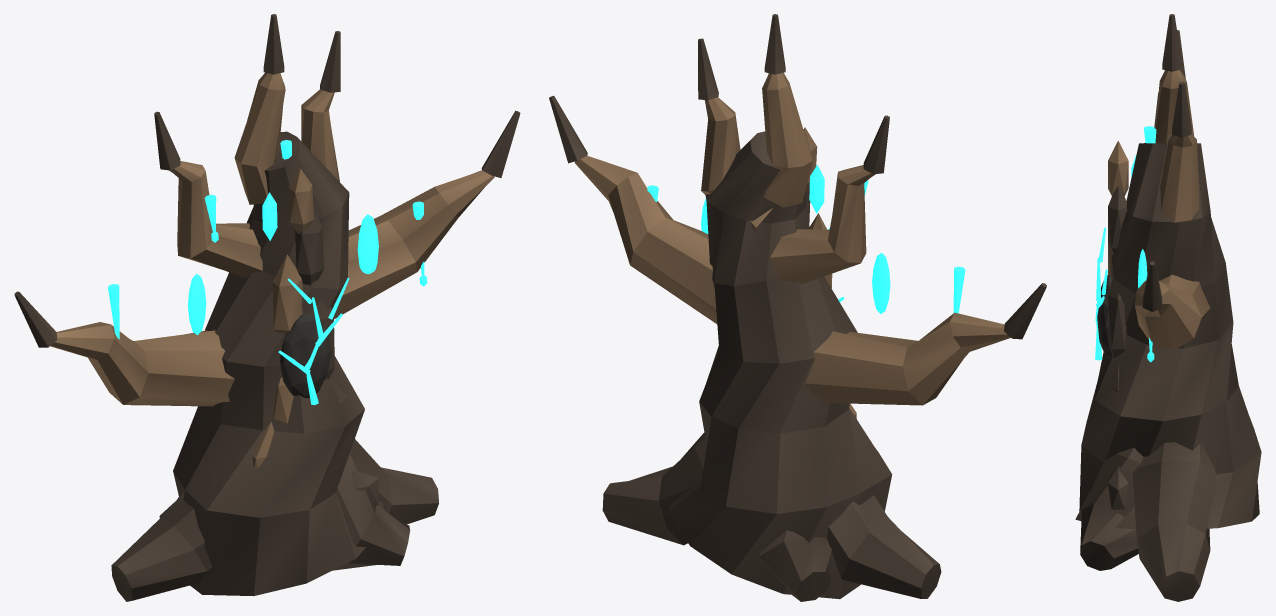
File: ashroot-tree.glb
3 renders of one model, left to right at view 1: azimuth 30°, elevation 25°; view 2: azimuth 150°, elevation 25°; view 3: azimuth 270°, elevation 25°, orthographic. The views are drawn at different scales.
Parts seen in each view (by area): view 1: Ashroot | twisted trunk, Ashroot | twisted branch 1, Ashroot | twisted branch 2, Ashroot | exposed root 1, Ashroot | twisted branch 3, Ashroot | twisted branch 5, Ashroot | exposed root 4, Ashroot | exposed root 2, Ashroot | hollow heart, Ashroot | twisted branch 4, Ashroot | bark scar 5, Ashroot | bark scar 6 (+8 smaller); view 2: Ashroot | twisted trunk, Ashroot | twisted branch 1, Ashroot | twisted branch 2, Ashroot | exposed root 1, Ashroot | twisted branch 3, Ashroot | exposed root 2, Ashroot | twisted branch 5, Ashroot | exposed root 3, Ashroot | twisted branch 4, Ashroot | branch tip 2, Ashroot | branch tip 1, Ashroot | luminous sap.003 (+3 smaller); view 3: Ashroot | twisted trunk, Ashroot | exposed root 2, Ashroot | exposed root 4, Ashroot | twisted branch 2, Ashroot | twisted branch 4, Ashroot | twisted branch 5, Ashroot | bark scar 4, Ashroot | bark scar 6, Ashroot | bark scar 7, Ashroot | branch tip 5, Ashroot | branch tip 4, Ashroot | hollow heart (+3 smaller).
Boxes of the visible parts, bbox=[...] form: Ashroot | twisted trunk: bbox=[173, 131, 383, 596]; Ashroot | twisted branch 1: bbox=[50, 322, 234, 406]; Ashroot | twisted branch 2: bbox=[334, 170, 494, 319]; Ashroot | exposed root 1: bbox=[111, 492, 212, 601]; Ashroot | twisted branch 3: bbox=[169, 161, 262, 277]; Ashroot | twisted branch 5: bbox=[234, 72, 285, 204]; Ashroot | exposed root 4: bbox=[333, 454, 410, 570]; Ashroot | exposed root 2: bbox=[349, 439, 438, 524]; Ashroot | hollow heart: bbox=[280, 313, 331, 398]; Ashroot | twisted branch 4: bbox=[301, 89, 339, 181]; Ashroot | bark scar 5: bbox=[272, 254, 302, 334]; Ashroot | bark scar 6: bbox=[295, 213, 323, 284]; Ashroot | twisted trunk: bbox=[668, 131, 892, 599]; Ashroot | twisted branch 1: bbox=[805, 312, 1010, 405]; Ashroot | twisted branch 2: bbox=[575, 155, 717, 323]; Ashroot | exposed root 1: bbox=[827, 495, 941, 598]; Ashroot | twisted branch 3: bbox=[770, 165, 875, 284]; Ashroot | exposed root 2: bbox=[602, 432, 707, 545]; Ashroot | twisted branch 5: bbox=[762, 72, 812, 207]; Ashroot | exposed root 3: bbox=[759, 530, 831, 601]; Ashroot | twisted branch 4: bbox=[701, 97, 772, 231]; Ashroot | branch tip 2: bbox=[549, 96, 587, 163]; Ashroot | branch tip 1: bbox=[1004, 283, 1046, 339]; Ashroot | luminous sap.003: bbox=[872, 252, 890, 313]; Ashroot | twisted trunk: bbox=[1075, 143, 1261, 529]; Ashroot | exposed root 2: bbox=[1132, 442, 1215, 601]; Ashroot | exposed root 4: bbox=[1080, 447, 1143, 570]; Ashroot | twisted branch 2: bbox=[1134, 274, 1210, 349]; Ashroot | twisted branch 4: bbox=[1160, 134, 1199, 222]; Ashroot | twisted branch 5: bbox=[1155, 70, 1194, 143]; Ashroot | bark scar 4: bbox=[1108, 278, 1126, 358]; Ashroot | bark scar 6: bbox=[1108, 186, 1127, 254]; Ashroot | bark scar 7: bbox=[1108, 140, 1128, 195]; Ashroot | branch tip 5: bbox=[1162, 14, 1181, 71]; Ashroot | branch tip 4: bbox=[1172, 81, 1191, 137]; Ashroot | hollow heart: bbox=[1097, 274, 1112, 357].
Bounding box in the file's own units: 3.38 × 3.54 × 1.14.
